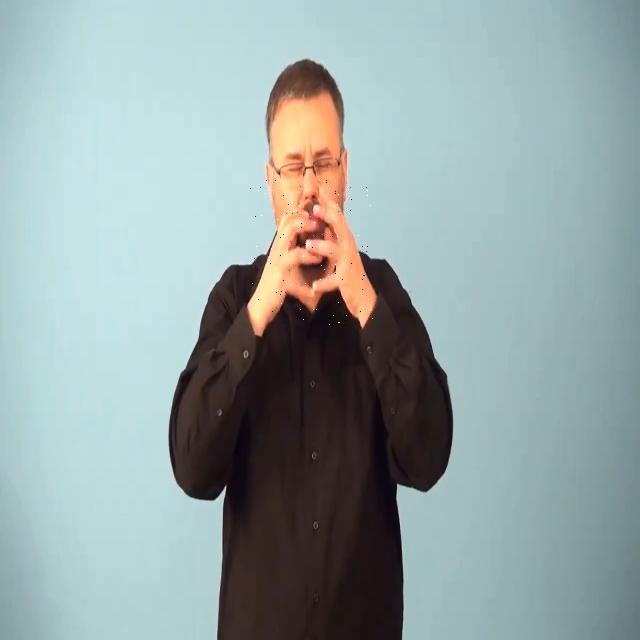juicy: (250, 180, 373, 326)
